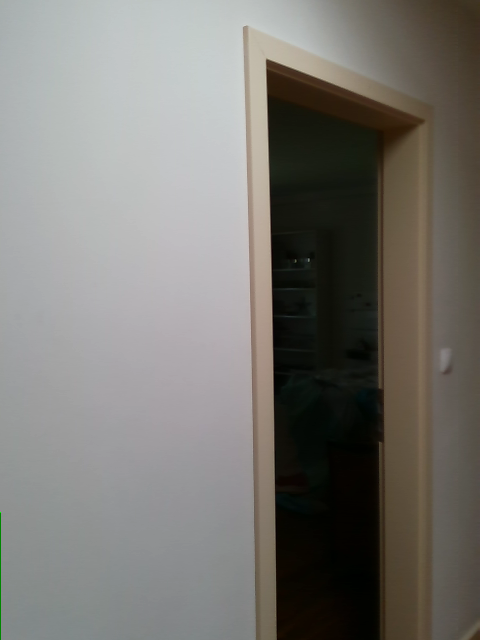open: (240, 25, 429, 639)
